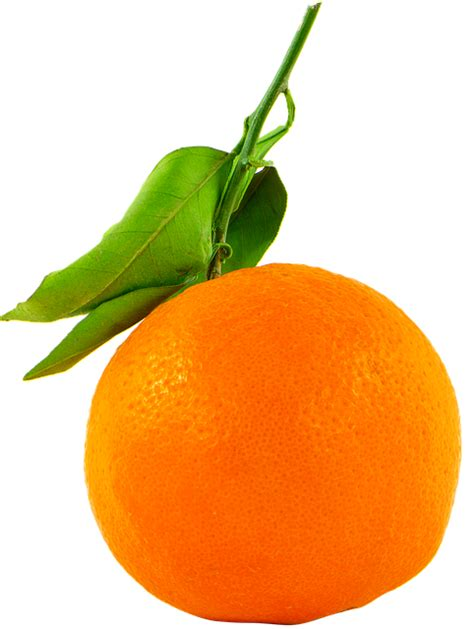orange: (77, 262, 467, 629)
